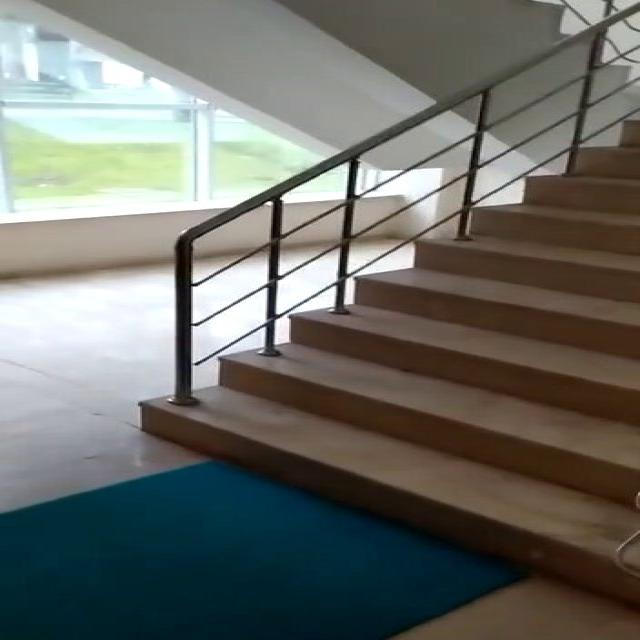upstair: (126, 116, 640, 622)
